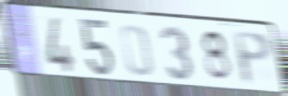0: (119, 22, 155, 78)
3: (158, 23, 194, 83)
4: (44, 15, 76, 75)
5: (77, 16, 116, 78)
8: (200, 29, 233, 84)
P: (230, 30, 274, 88)
